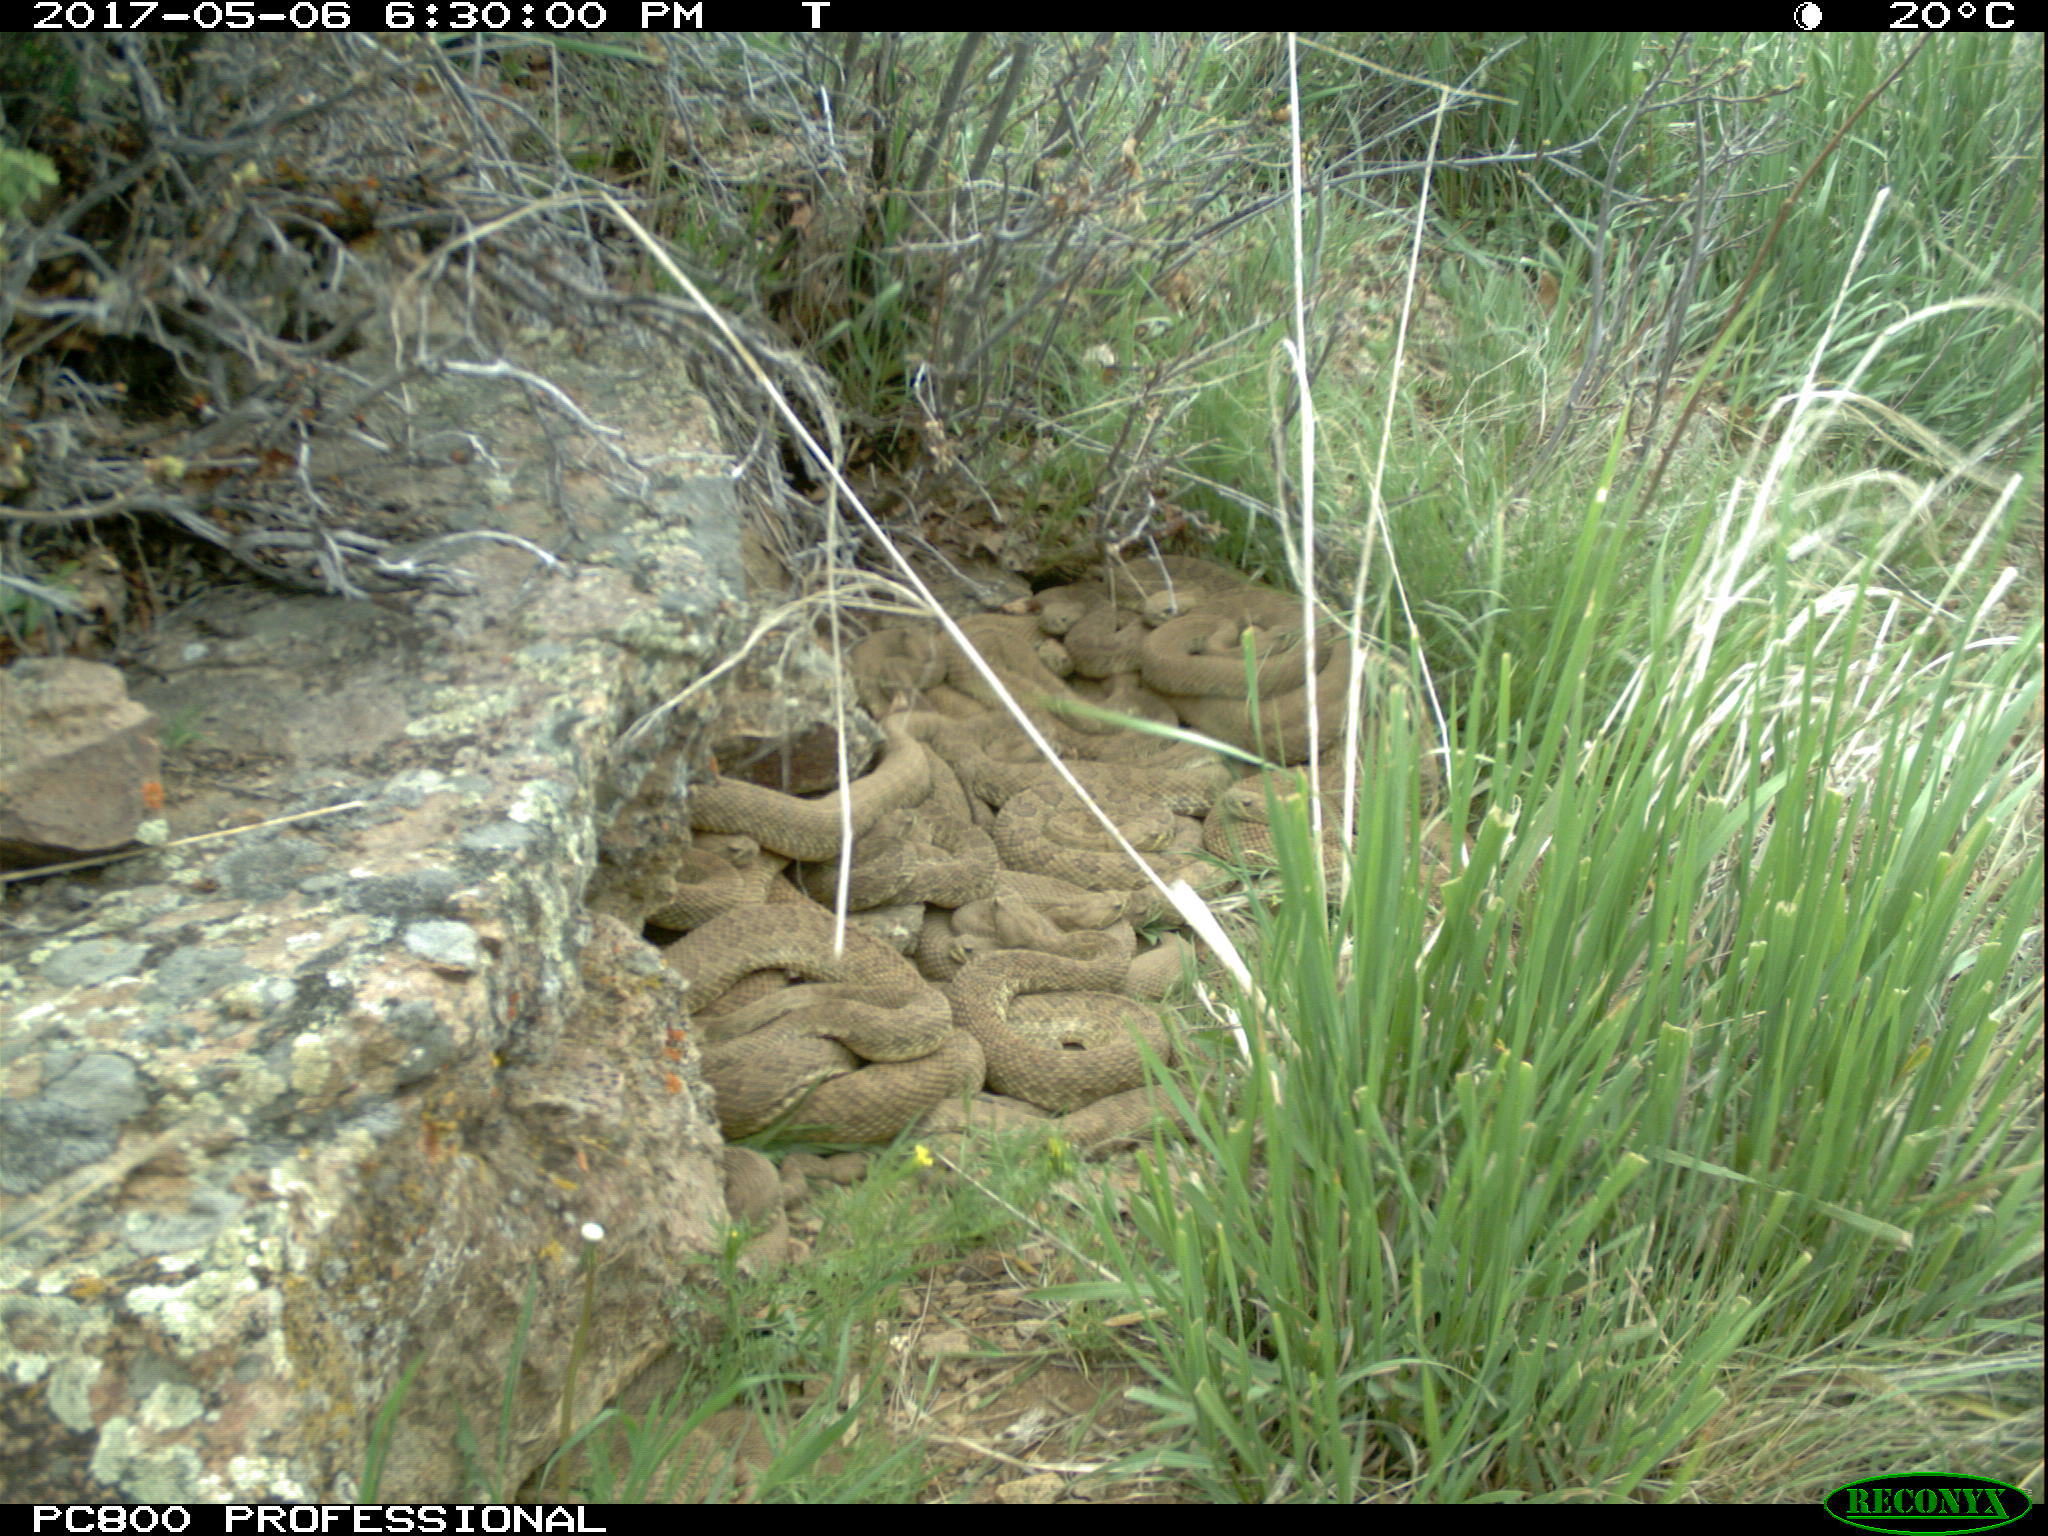snake: (660, 900, 987, 1134), (664, 728, 992, 895), (951, 913, 1190, 1100), (1138, 582, 1384, 763), (855, 594, 1158, 736), (1188, 758, 1503, 892), (980, 744, 1213, 874), (555, 1404, 768, 1504), (724, 1142, 810, 1297)
